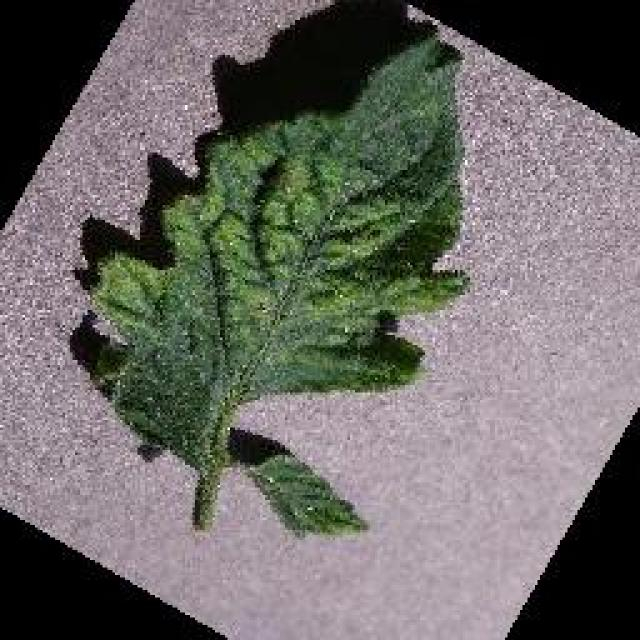Tomato___Tomato_mosaic_virus: (95, 38, 462, 528)
